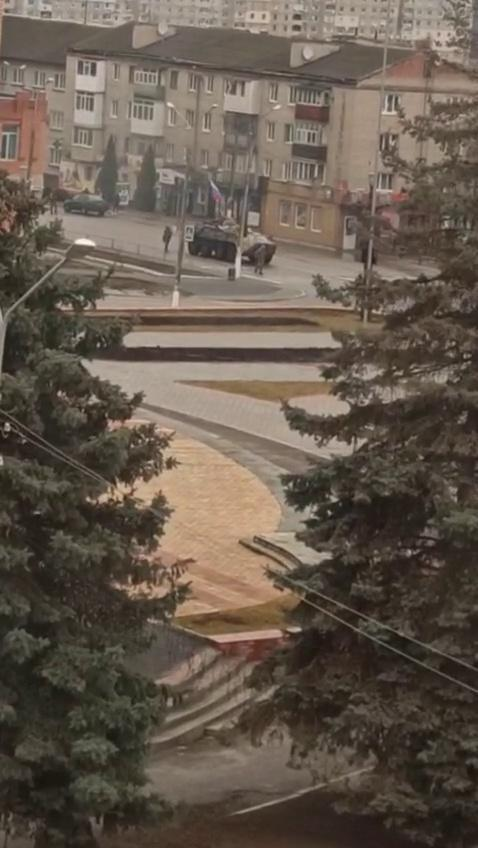car: (62, 193, 109, 217)
person: (253, 245, 267, 275), (48, 186, 59, 215), (162, 226, 173, 253)
tank: (186, 218, 277, 266)
